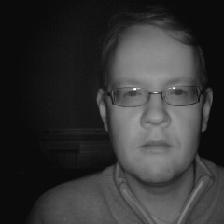normal: (100, 18, 218, 185)
